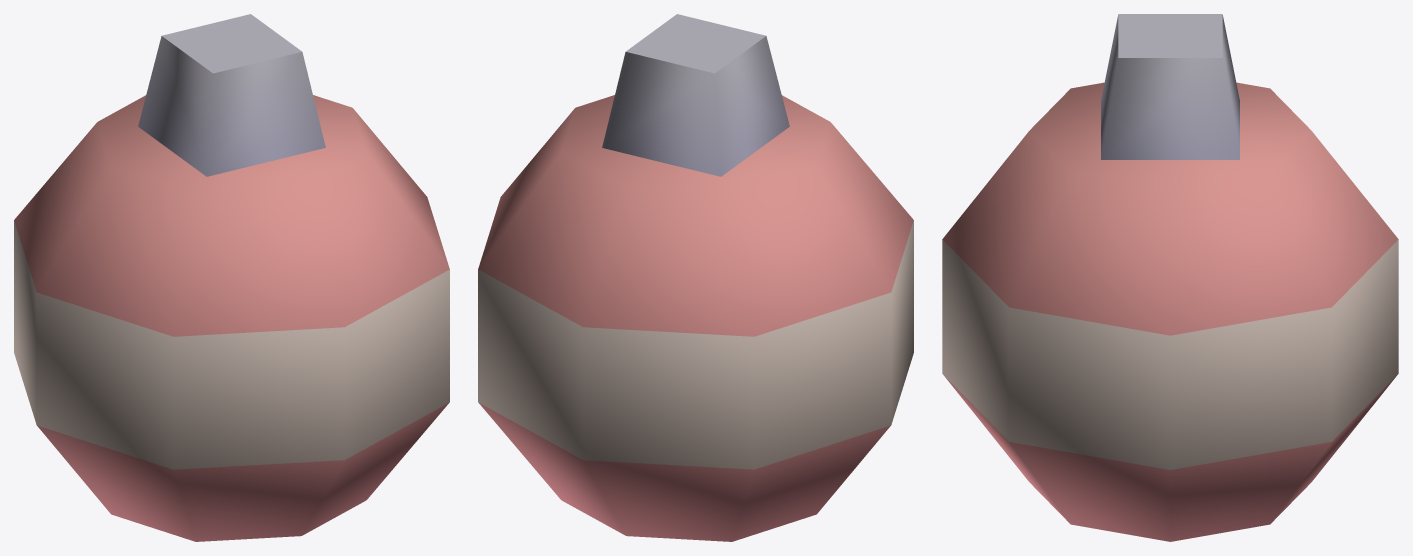
Rendered from christmas-ornament-stripes-horizontal.glb.
3 views of the same model, side by side, from view 1: azimuth 30°, elevation 25°; view 2: azimuth 150°, elevation 25°; view 3: azimuth 270°, elevation 25° (orthographic).
Visible parts, largest first — view 1: christmas-ornament-stripes-horizontal; view 2: christmas-ornament-stripes-horizontal; view 3: christmas-ornament-stripes-horizontal.
Boxes of the visible parts, left/top/right/bottom form: christmas-ornament-stripes-horizontal: left=14, top=14, right=449, bottom=541; christmas-ornament-stripes-horizontal: left=478, top=14, right=913, bottom=541; christmas-ornament-stripes-horizontal: left=942, top=14, right=1398, bottom=541.
Size of the model in its own units: 0.1312 by 0.1548 by 0.1312.
